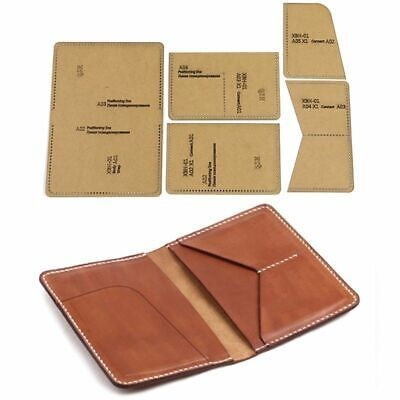cuero: (40, 204, 360, 386)
